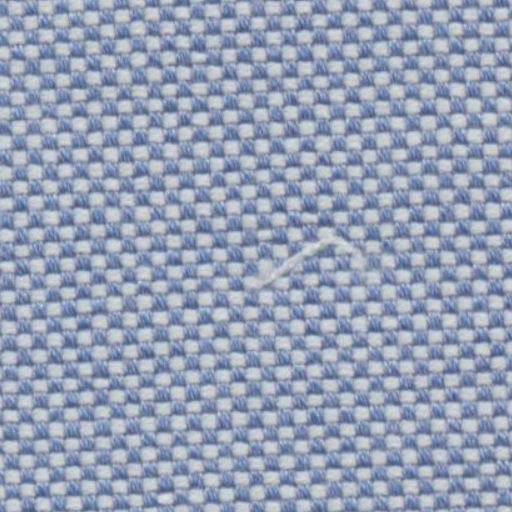DuanSha: (258, 230, 346, 294)
